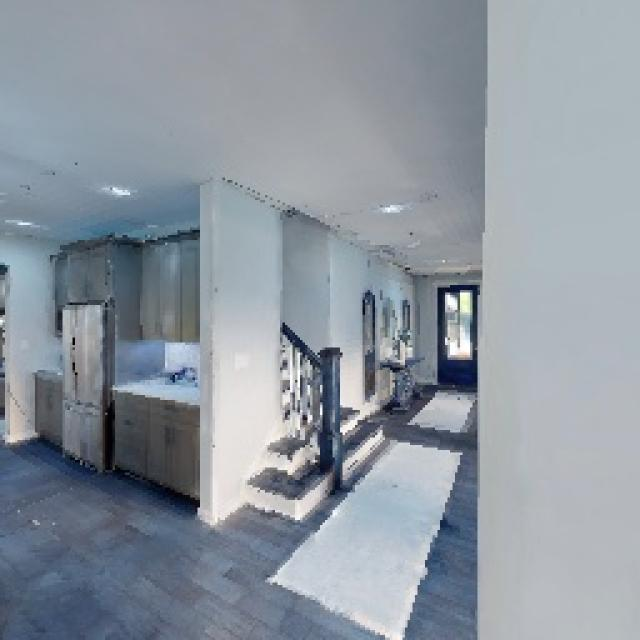stairs: (254, 286, 367, 540)
